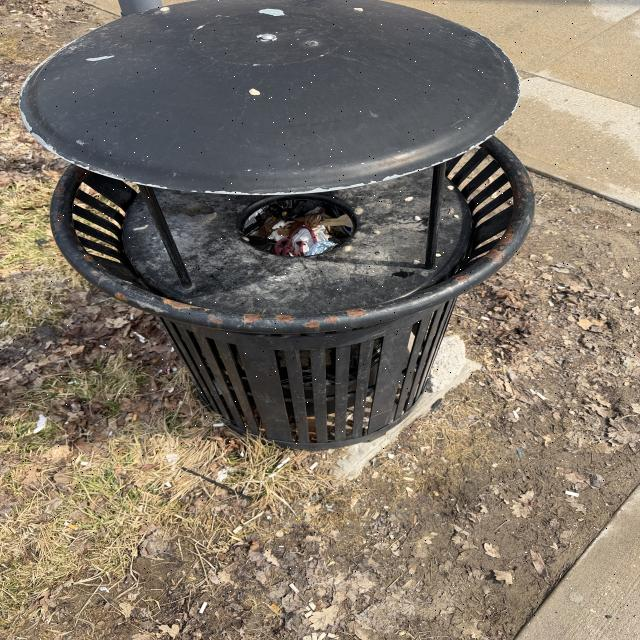Dustbin: (14, 1, 535, 452)
